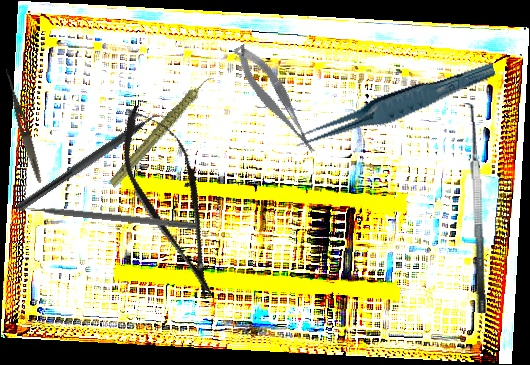Chopper: (14, 101, 177, 223), (16, 194, 198, 230)
Dressing Forceps: (0, 65, 45, 185)
Handpiece: (91, 74, 235, 189)
Micro Scissor: (105, 94, 240, 309), (230, 37, 320, 163)
Spatula Surgical: (455, 102, 487, 314)
Tissue Forceps: (288, 60, 501, 150)
